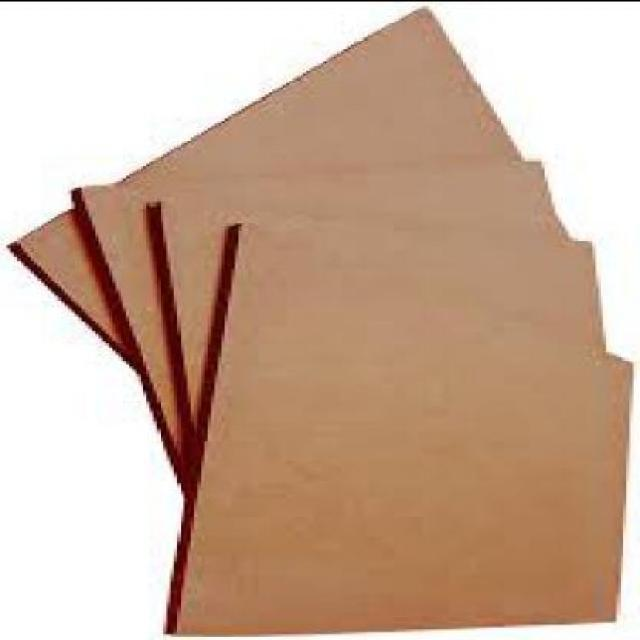box: (166, 220, 639, 634), (11, 3, 525, 369), (76, 154, 570, 495), (151, 197, 609, 495)
